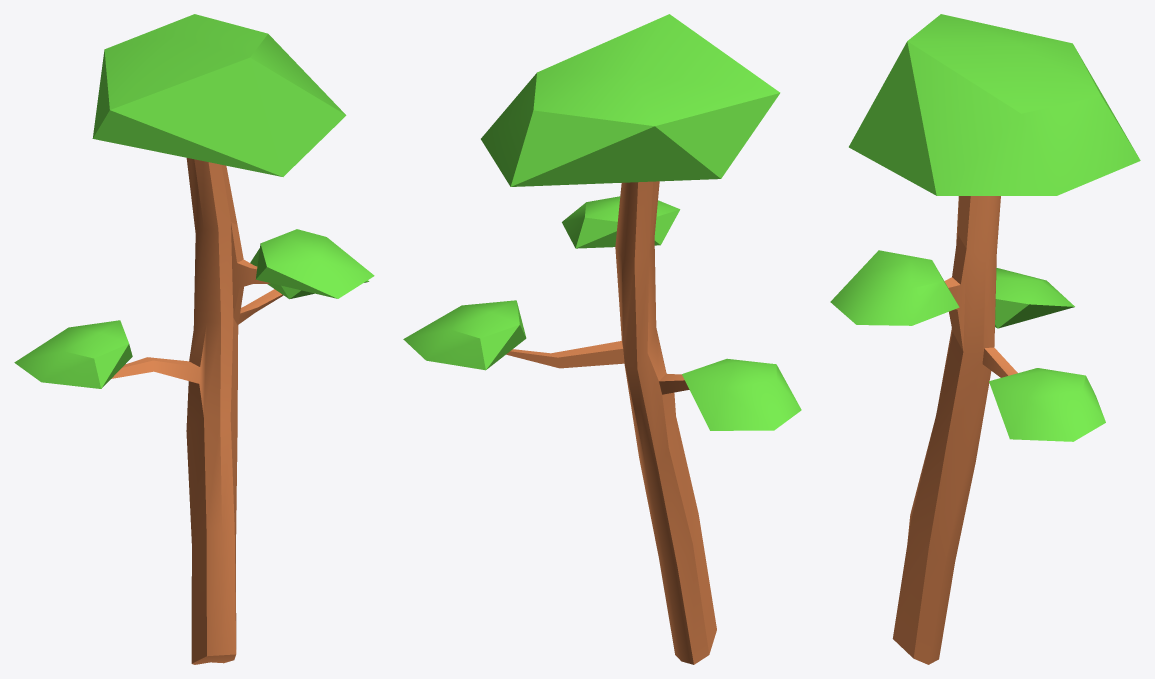
The model's file is tree1.fbx.
3 renders of one model, left to right at view 1: azimuth 30°, elevation 25°; view 2: azimuth 150°, elevation 25°; view 3: azimuth 270°, elevation 25°, orthographic. The views are drawn at different scales.
Parts seen in each view (by area): view 1: Icosphere.007, Cube.003, Icosphere.006, Icosphere.004; view 2: Icosphere.007, Cube.003, Icosphere.004, Icosphere.005, Icosphere.006; view 3: Icosphere.007, Cube.003, Icosphere.006, Icosphere.005, Icosphere.004.
Part boxes in pixels (left/top/right/bottom): Icosphere.007: left=92, top=14, right=346, bottom=176; Cube.003: left=111, top=158, right=283, bottom=664; Icosphere.006: left=255, top=229, right=374, bottom=298; Icosphere.004: left=14, top=320, right=132, bottom=388; Icosphere.007: left=481, top=14, right=780, bottom=186; Cube.003: left=506, top=181, right=716, bottom=664; Icosphere.004: left=682, top=358, right=801, bottom=430; Icosphere.005: left=403, top=300, right=526, bottom=370; Icosphere.006: left=562, top=196, right=680, bottom=248; Icosphere.007: left=849, top=14, right=1140, bottom=195; Cube.003: left=892, top=196, right=1017, bottom=664; Icosphere.006: left=830, top=250, right=959, bottom=325; Icosphere.005: left=989, top=368, right=1105, bottom=441; Icosphere.004: left=995, top=267, right=1074, bottom=328.
Size of the model in its own units: 35.38 by 59.47 by 26.5.
